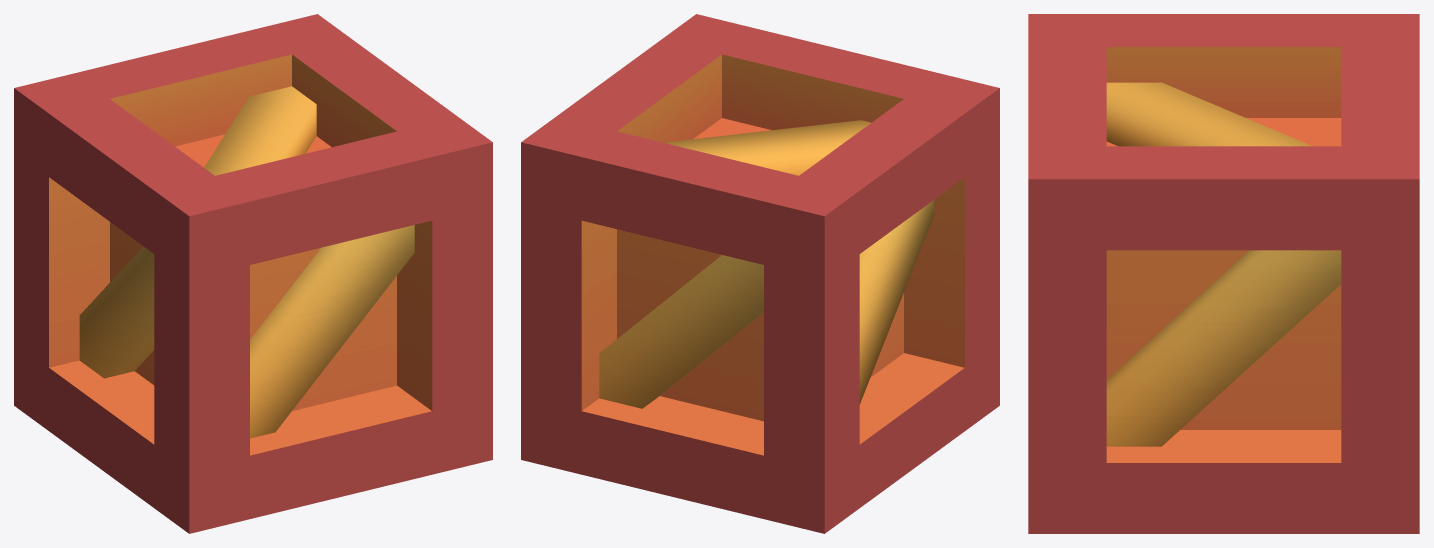
Rendered from ExplosiveCrate.fbx.
The picture shows the model from 3 angles, left to right: view 1: azimuth 30°, elevation 25°; view 2: azimuth 150°, elevation 25°; view 3: azimuth 270°, elevation 25°; orthographic projection. The views are drawn at different scales.
Parts seen in each view (by area): view 1: crate; view 2: crate; view 3: crate.
Part boxes in pixels (left/top/right/bottom): crate: left=14, top=14, right=492, bottom=533; crate: left=521, top=14, right=999, bottom=533; crate: left=1028, top=14, right=1419, bottom=533.
Bounding box in the file's own units: 50 × 50 × 50.
